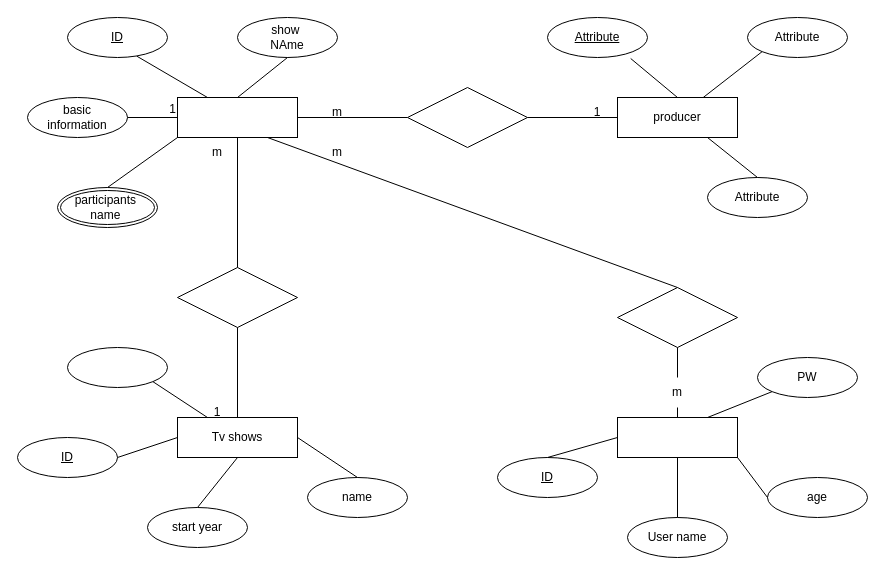
Image size: 885x575. Some labels were removed from this diagram. Each missing label, with the box of its shape:
broadcast by: (176, 266, 298, 328)
Head office: (66, 346, 168, 388)
produce by: (406, 86, 528, 148)
rate: (616, 286, 738, 348)
reality shows: (176, 96, 298, 138)
users: (616, 416, 738, 458)
